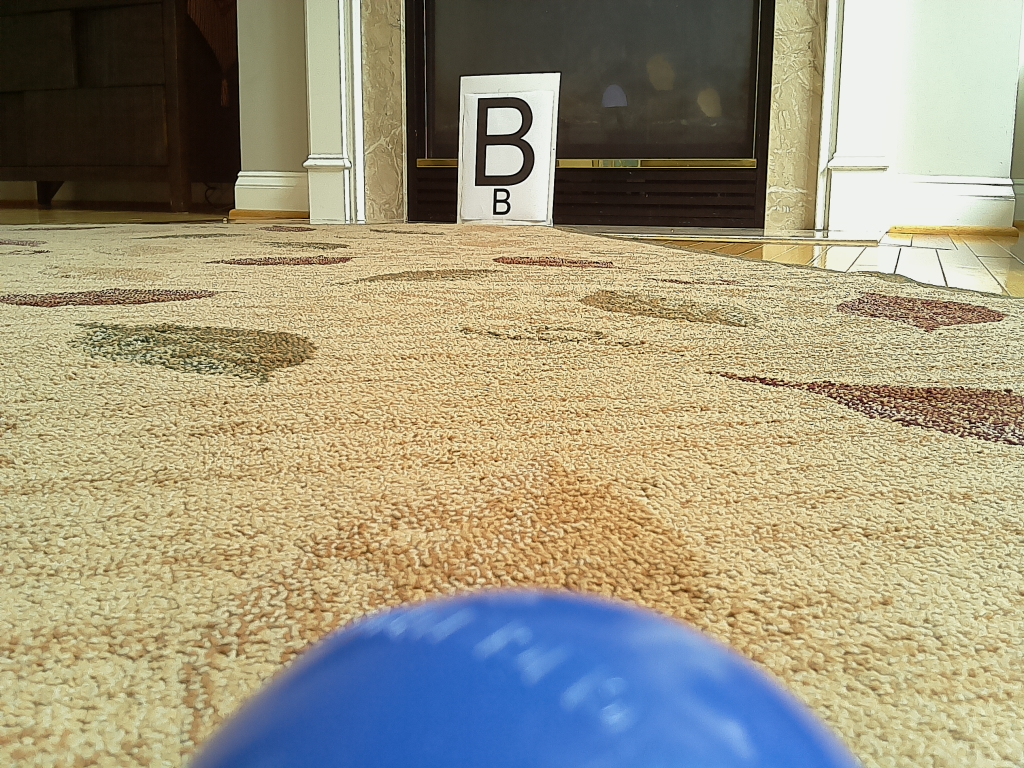letter: (473, 96, 535, 188)
